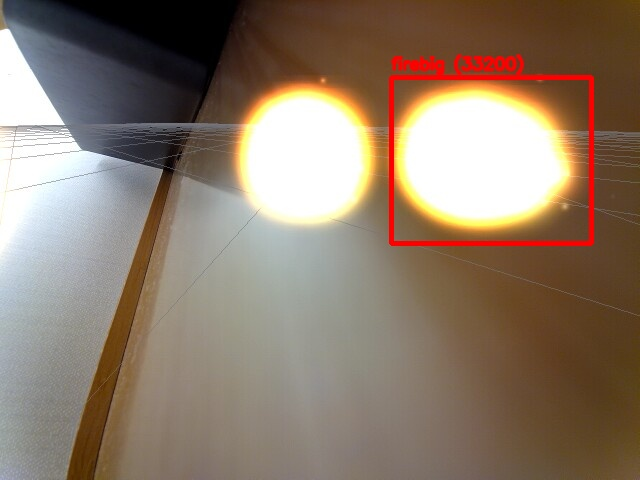firebig: (391, 77, 591, 243)
